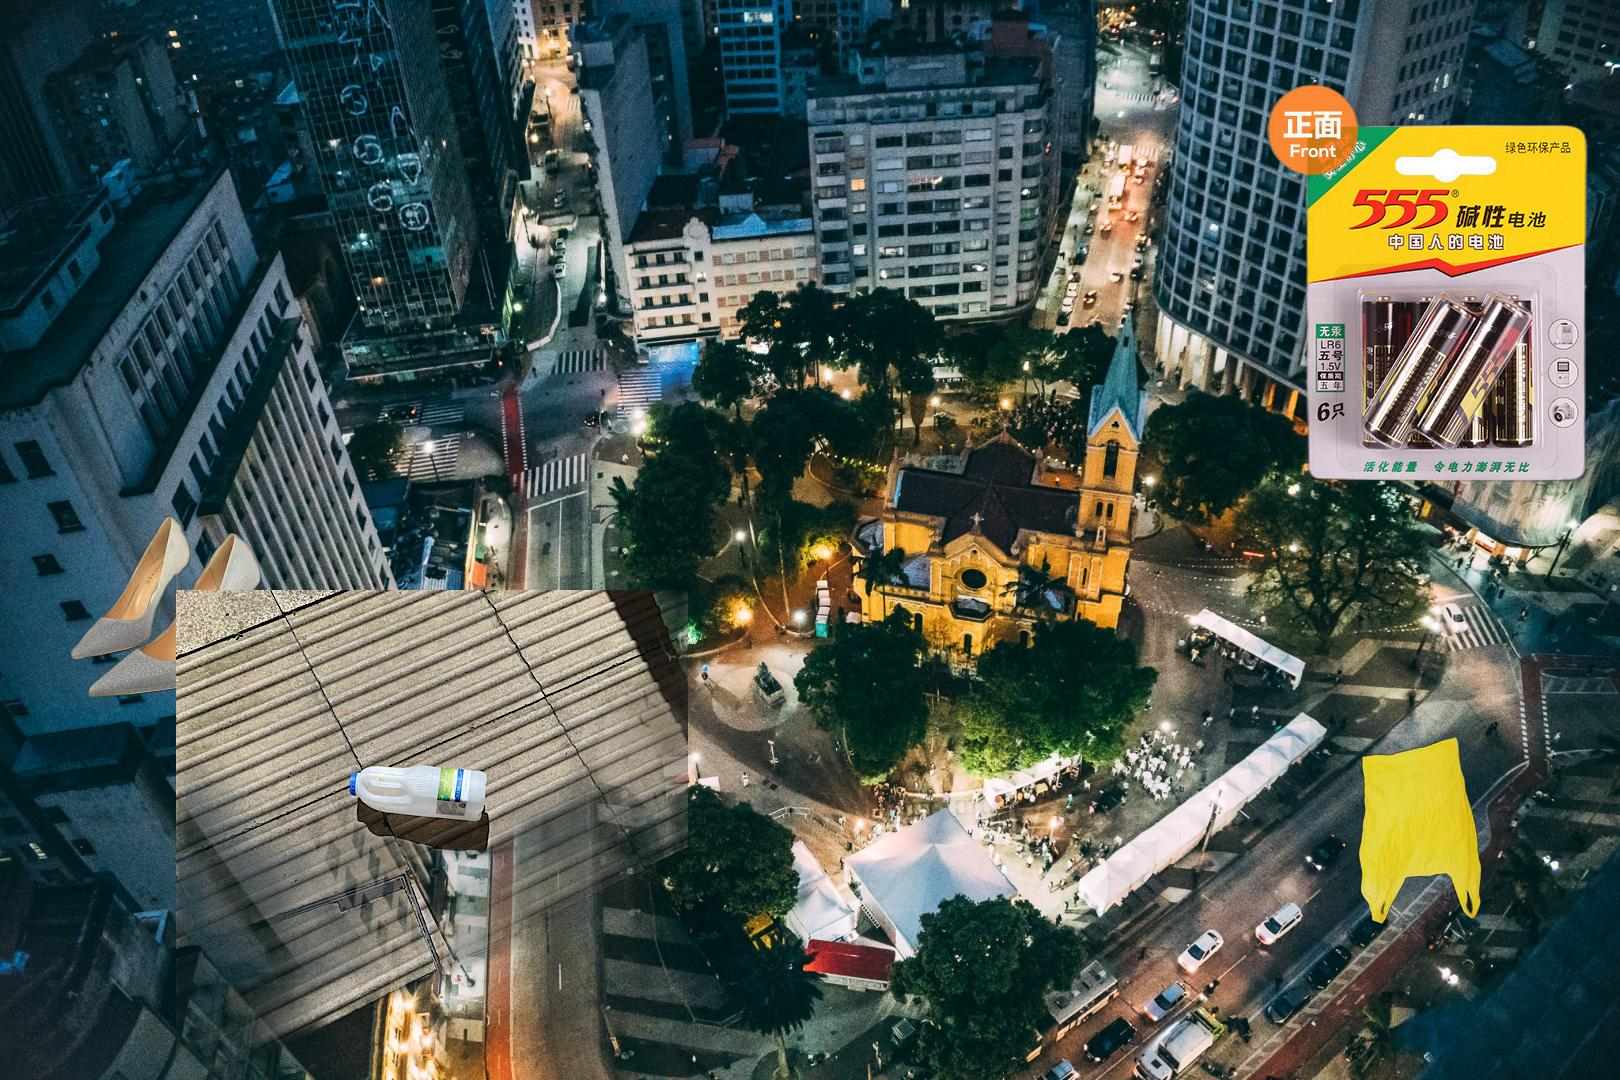battery: (1261, 75, 1620, 492)
plastic-bag: (1355, 734, 1485, 925)
plastic-bottles: (176, 590, 688, 1080)
shoes: (53, 513, 263, 700)
